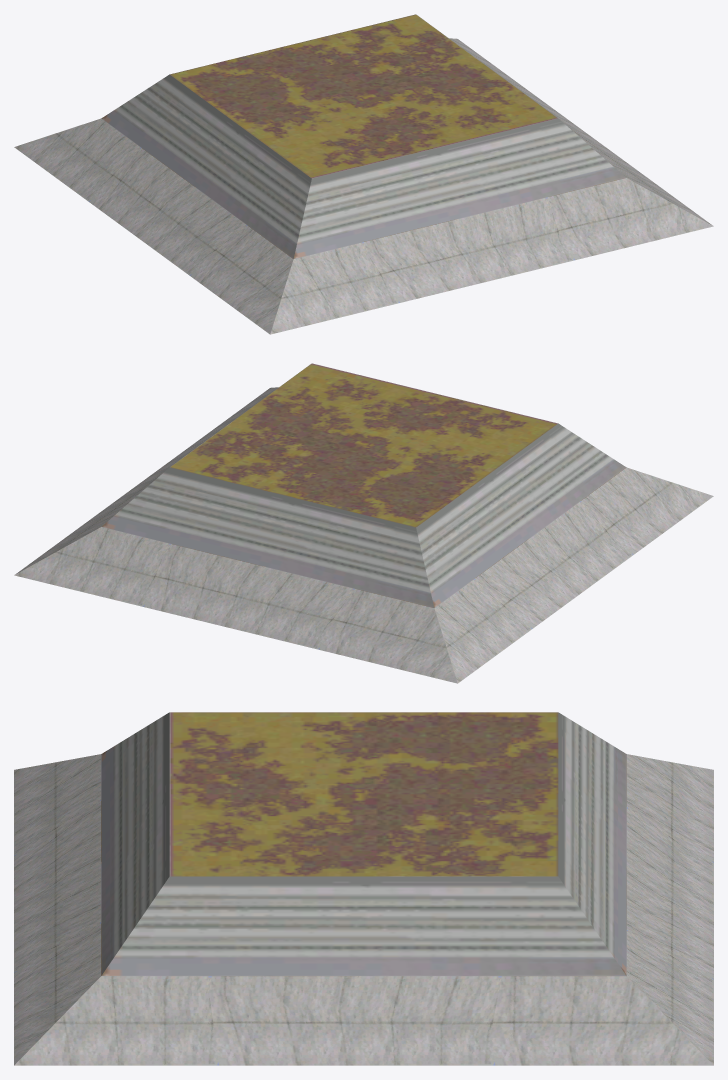
Rendered from ply_corl_garden_sml_s01_l2.fbx.
3 views of the same model, one above another, from view 1: azimuth 30°, elevation 25°; view 2: azimuth 150°, elevation 25°; view 3: azimuth 270°, elevation 25° (orthographic). The views are drawn at different scales.
Visible parts, largest first — view 1: mesh_node; view 2: mesh_node; view 3: mesh_node.
Boxes of the visible parts, x1,y1,x2,y2 form: mesh_node: [14, 14, 713, 334]; mesh_node: [14, 363, 713, 683]; mesh_node: [14, 712, 713, 1065].
Size of the model in its own units: 18 by 3.5 by 18.
